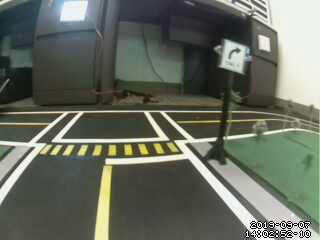Right_only_sign: (217, 34, 257, 78)
